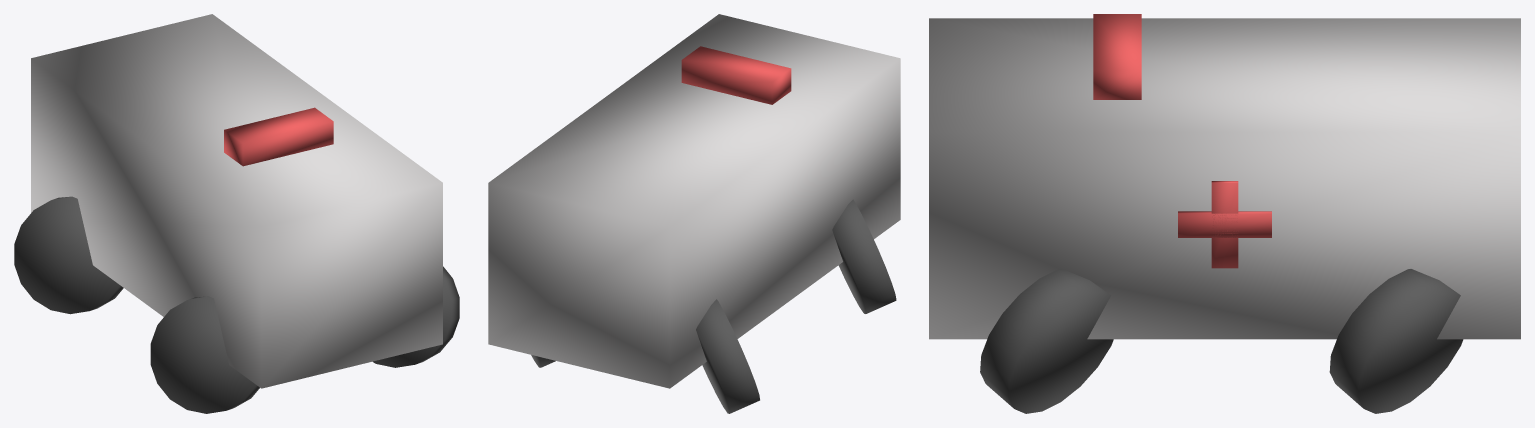
File: ambulance.glb
3 views of the same model, side by side, from view 1: azimuth 30°, elevation 25°; view 2: azimuth 150°, elevation 25°; view 3: azimuth 270°, elevation 25° (orthographic). The views are drawn at different scales.
Visible parts, largest first — view 1: body, aw_-0.52_0.65, aw_-0.52_-0.65, bar, aw_0.52_0.65; view 2: body, bar, aw_-0.52_0.65, aw_-0.52_-0.65; view 3: body, aw_0.52_-0.65, aw_0.52_0.65, bar, cross_h, cross_v.
Boxes of the visible parts, x1,y1,x2,y2 form: body: [31, 14, 442, 388]; aw_-0.52_0.65: [150, 296, 259, 413]; aw_-0.52_-0.65: [14, 196, 123, 314]; bar: [224, 107, 333, 166]; aw_0.52_0.65: [373, 266, 459, 367]; body: [488, 14, 900, 388]; bar: [681, 46, 791, 104]; aw_-0.52_0.65: [832, 199, 896, 313]; aw_-0.52_-0.65: [696, 299, 759, 413]; body: [929, 18, 1520, 339]; aw_0.52_-0.65: [1329, 269, 1463, 413]; aw_0.52_0.65: [980, 268, 1113, 413]; bar: [1093, 14, 1141, 99]; cross_h: [1178, 211, 1271, 237]; cross_v: [1211, 181, 1238, 268].
Bounding box in the file's own units: 1.56 × 1.27 × 2.2.
